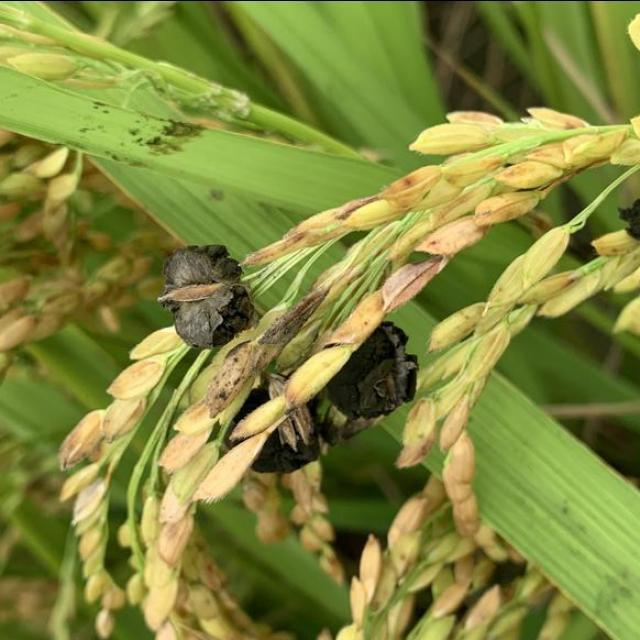Leaf_Scald: (155, 239, 254, 349), (323, 320, 422, 420), (224, 378, 319, 473)
